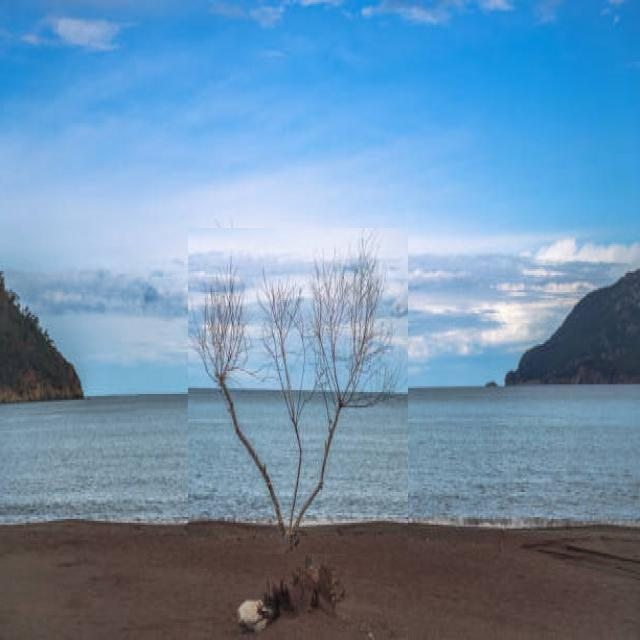tree: (188, 228, 408, 554)
